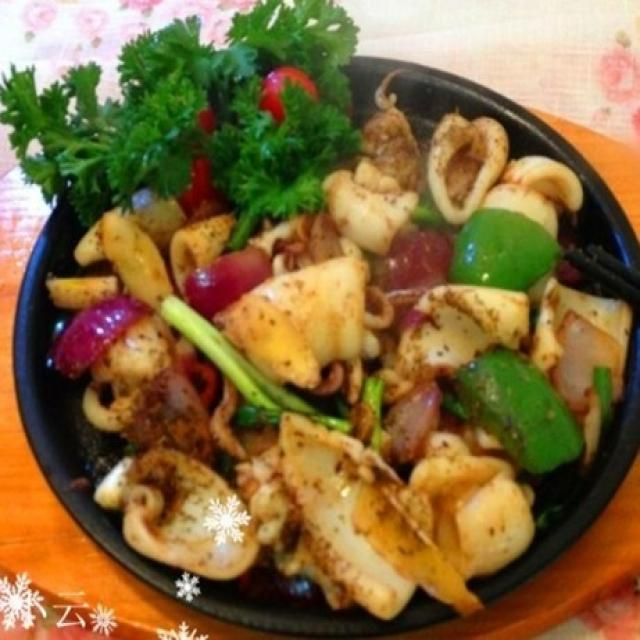鸡肉料理 含炸鸡: (32, 26, 629, 612)
